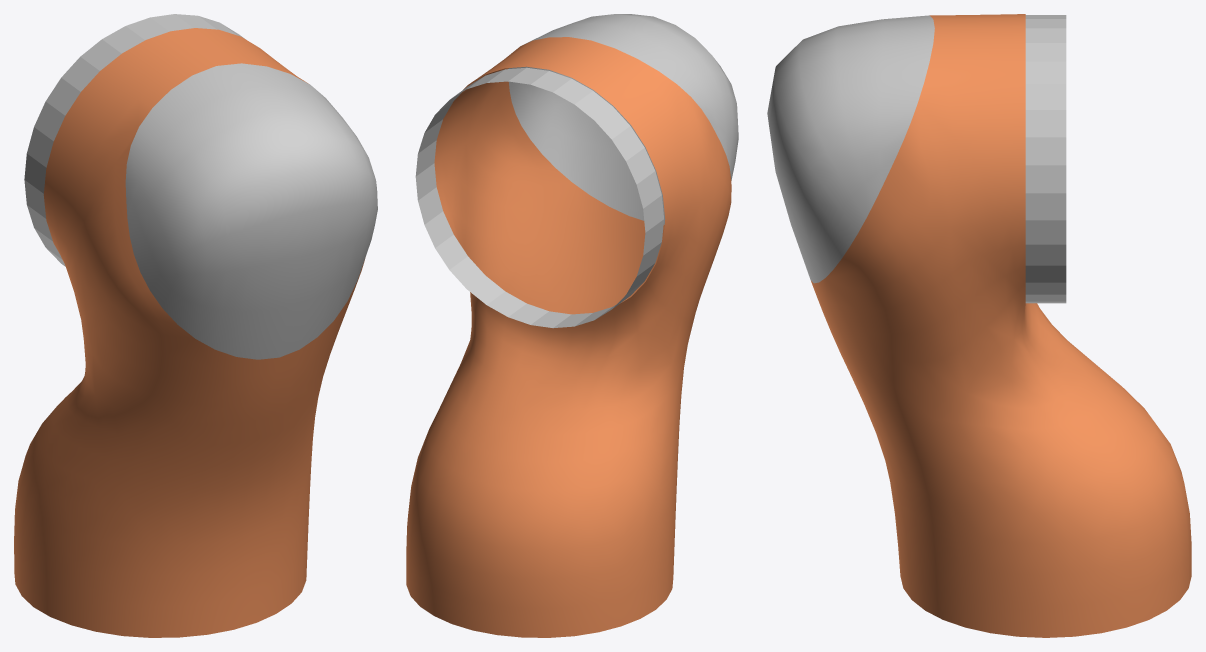
Rendered from arm_segment_a.dae.
3 renders of one model, left to right at view 1: azimuth 30°, elevation 25°; view 2: azimuth 150°, elevation 25°; view 3: azimuth 270°, elevation 25°, orthographic. The views are drawn at different scales.
Visible parts, largest first — view 1: segment; view 2: segment; view 3: segment.
Part boxes in pixels (box(x1,y1,x2,y2)): segment: box(14, 14, 377, 637); segment: box(406, 14, 738, 637); segment: box(767, 14, 1191, 637).
Bounding box in the file's own units: 0.124 × 0.1765 × 0.252.
